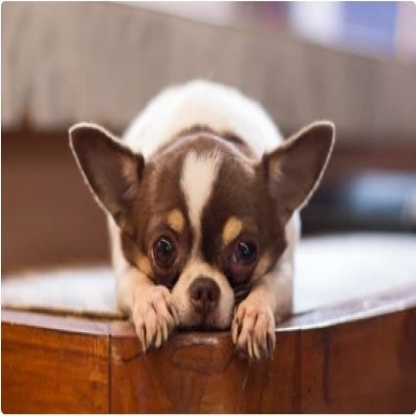chihuahua: (62, 71, 338, 362)
